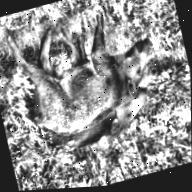boar: (13, 0, 182, 171), (56, 78, 164, 165)
